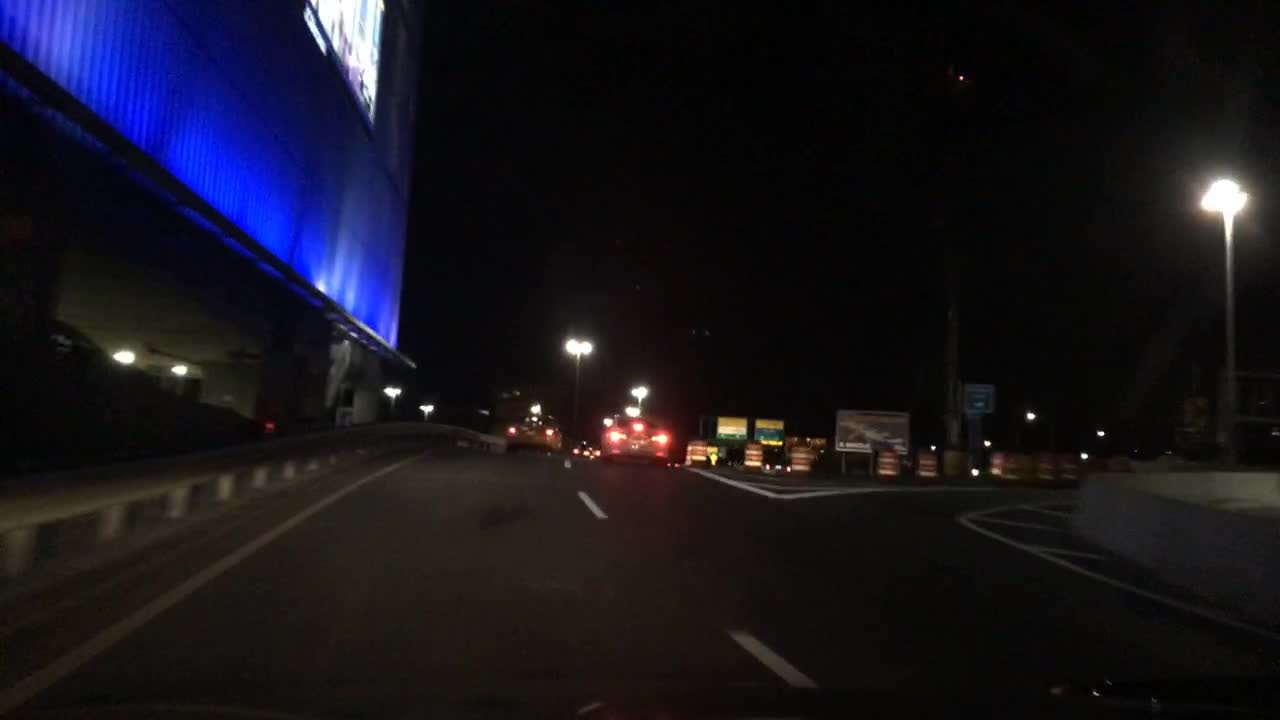car: (598, 405, 672, 467), (504, 405, 567, 458)
traffic sign: (963, 379, 994, 408), (715, 418, 748, 441), (756, 421, 782, 448)
